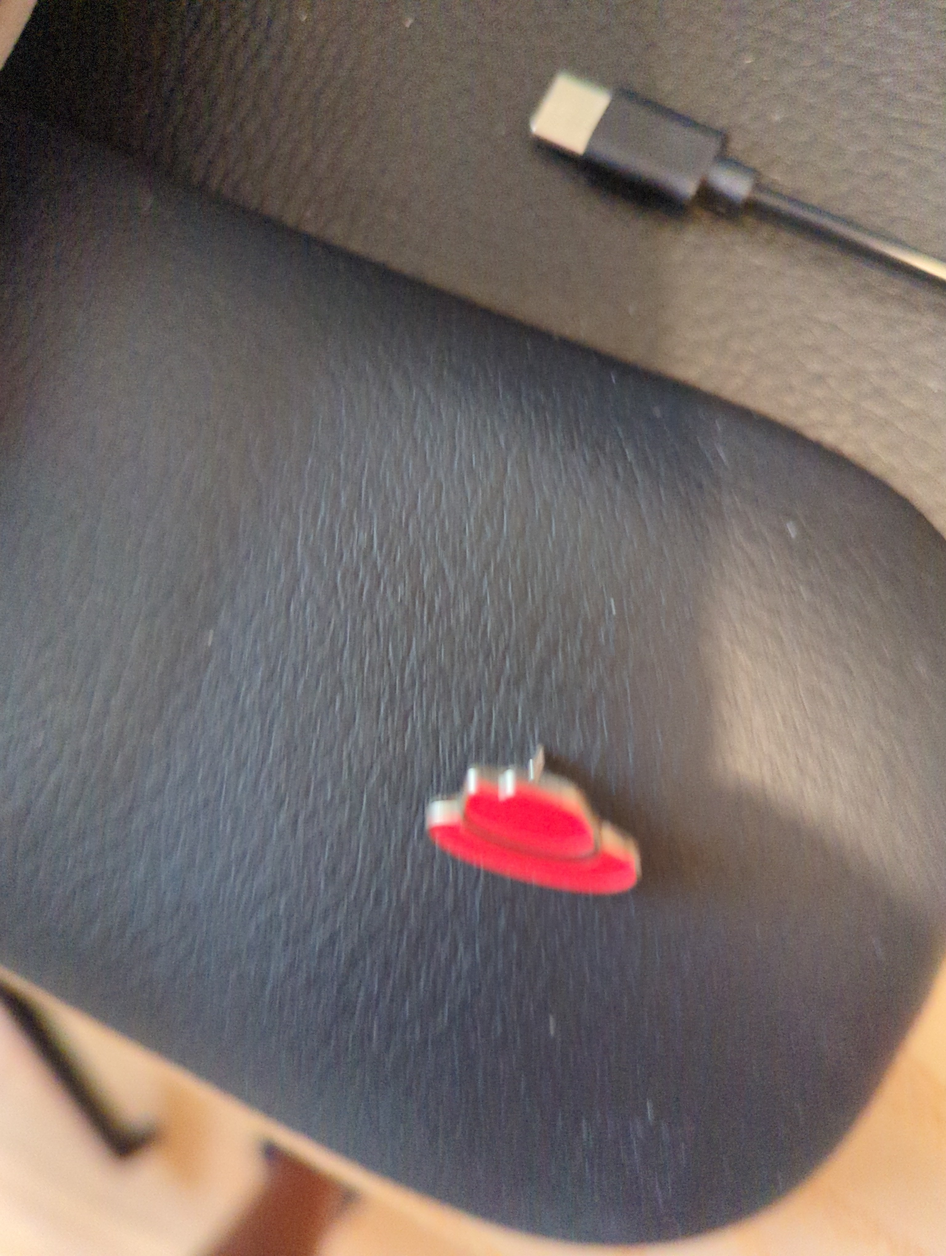Red-Hat: (378, 664, 704, 953)
